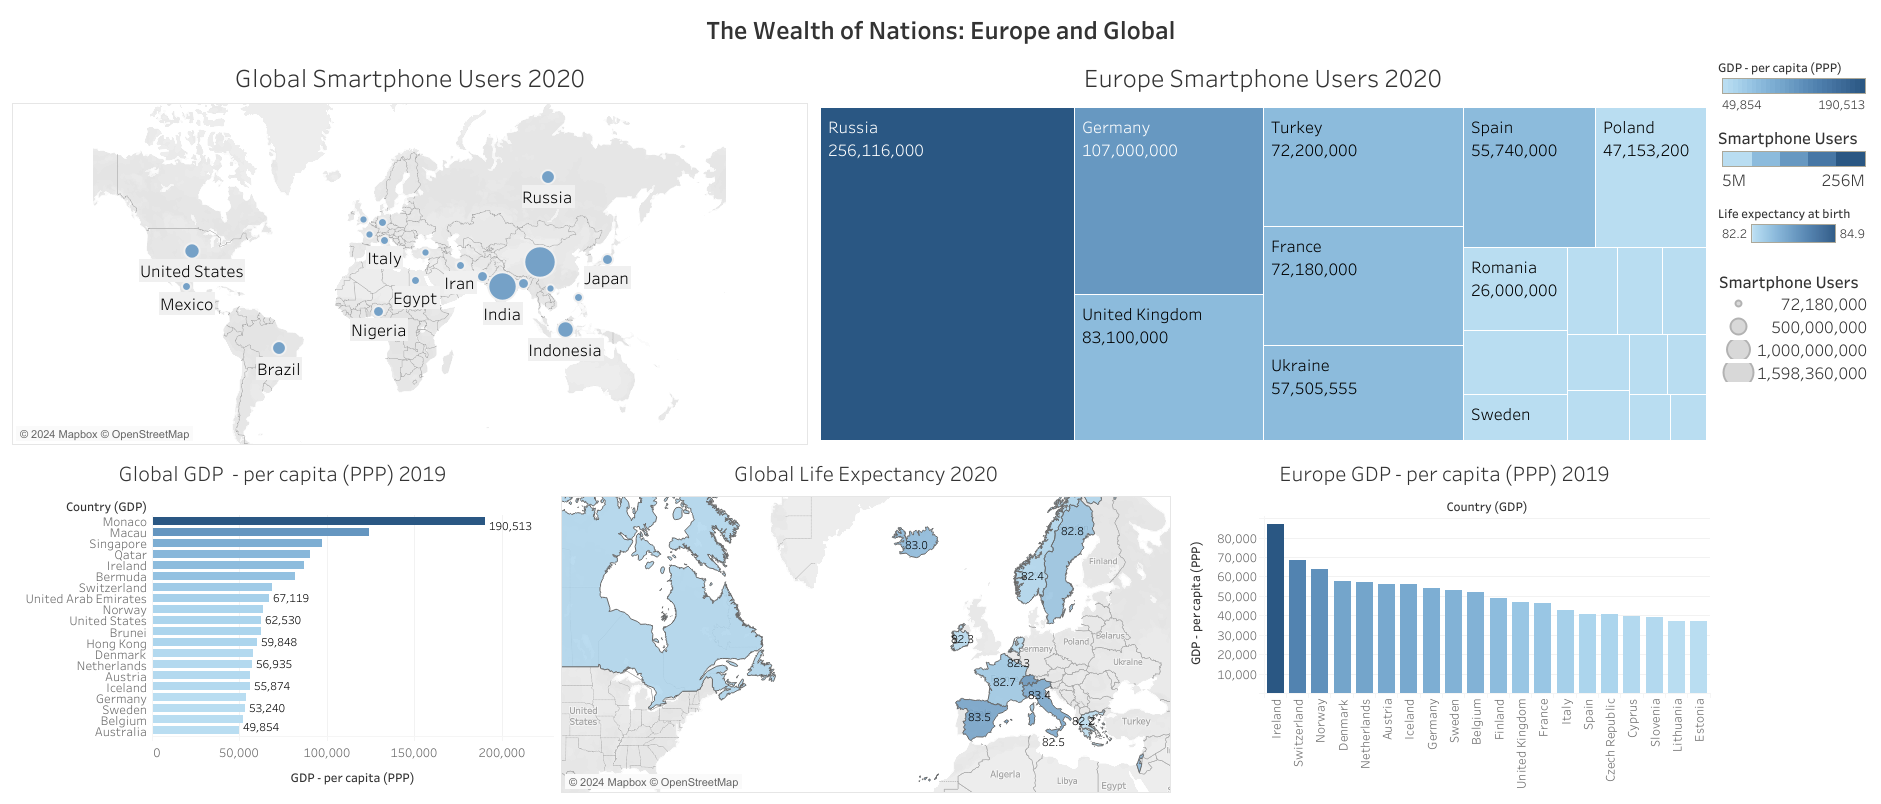

The page's visual inventory and layout, read from the dashboard file:
{"tool":"tableau","page":{"name":"Wealth of Nations","canvas":[1000,1000],"units":"permille","ordinal":1},"visuals":[{"type":"title","box":[6.3,10.7,987.4,56.3]},{"type":"worksheet","title":"Global Smartphone Map","mark":"Shape","box":[6.3,67,405.9,492.2]},{"type":"worksheet","title":"Europe Smartphone Tree","mark":"Automatic","box":[412.2,67,455,492.2]},{"type":"legend","title":"Global GDP Chart","param":"[federated.0difpxb12pwm1w13elior0uohbhp].[sum:GDP - per capita (PPP):qk]","box":[867.2,67,126.5,91.2]},{"type":"legend","title":"Europe Smartphone Tree","param":"[federated.0difpxb12pwm1w13elior0uohbhp].[sum:Smartphone Users:qk]","box":[867.2,158.2,126.5,104.5]},{"type":"legend","title":"Global Life Map","param":"[federated.0difpxb12pwm1w13elior0uohbhp].[sum:Life expectancy at birth:qk]","box":[867.2,262.7,126.5,91.2]},{"type":"legend","title":"Global Smartphone Map","param":"[federated.0difpxb12pwm1w13elior0uohbhp].[sum:Smartphone Users:qk]","box":[867.2,353.9,126.5,166.2]},{"type":"worksheet","title":"Global GDP Chart","mark":"Bar","rows":["Country (GDP)"],"cols":["GDP - per capita (PPP)"],"box":[6.3,559.2,276.8,430.1]},{"type":"worksheet","title":"Global Life Map","mark":"Automatic","box":[283.1,559.2,312.3,430.1]},{"type":"worksheet","title":"Europe GDP Chart","mark":"Automatic","rows":["GDP - per capita (PPP)"],"cols":["Country (GDP)"],"box":[595.4,559.2,271.8,430.1]}]}

Visuals, with their boxes on the dashboard's canvas, which has no fixed pixel size, in thousandths of its width and height (x1, y1, x2, y2). These are canvas units, not pixel positions in the 1881x804 screenshot, which may show the page scaled, cropped or inside an application window:
title: (6,11,994,67)
"Global Smartphone Map" worksheet (Shape marks): (6,67,412,559)
"Europe Smartphone Tree" worksheet: (412,67,867,559)
"Global GDP Chart" legend: (867,67,994,158)
"Europe Smartphone Tree" legend: (867,158,994,263)
"Global Life Map" legend: (867,263,994,354)
"Global Smartphone Map" legend: (867,354,994,520)
"Global GDP Chart" worksheet (Bar marks): (6,559,283,989)
"Global Life Map" worksheet: (283,559,595,989)
"Europe GDP Chart" worksheet: (595,559,867,989)
